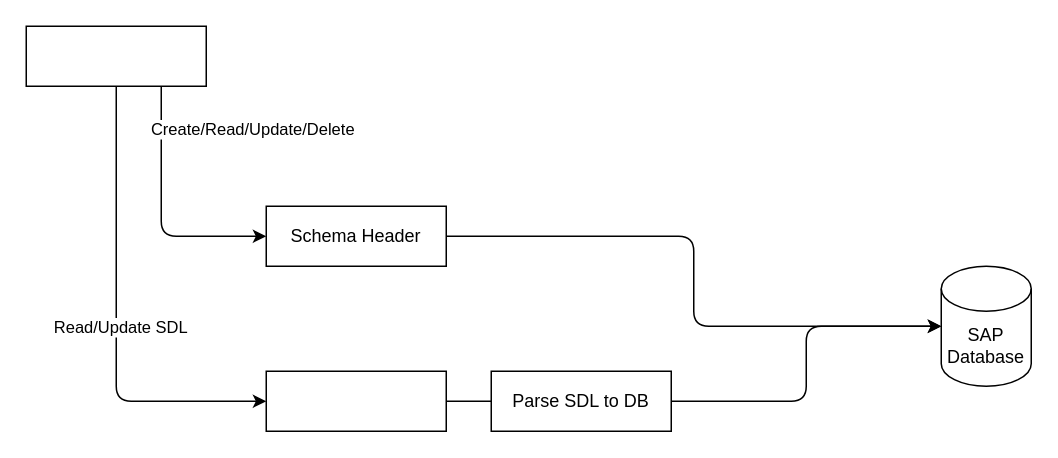
Some shapes in this 1058 by 458 pixel diagram are drawn without their labels. The centre of each missing label's shape, as x and y in pixels:
"GraphQL Admin API" belongs at point (115, 55).
"Validate SDL" belongs at point (355, 400).
